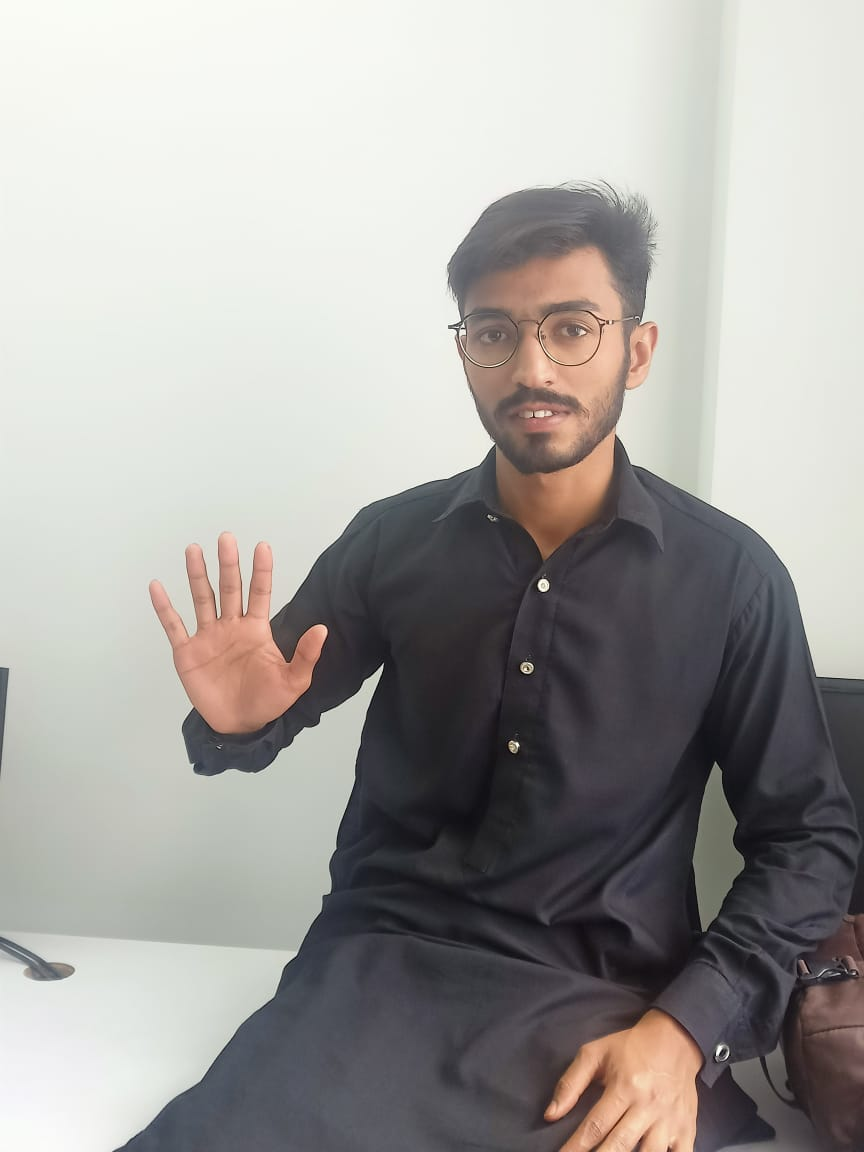Hello: (135, 527, 342, 744)
